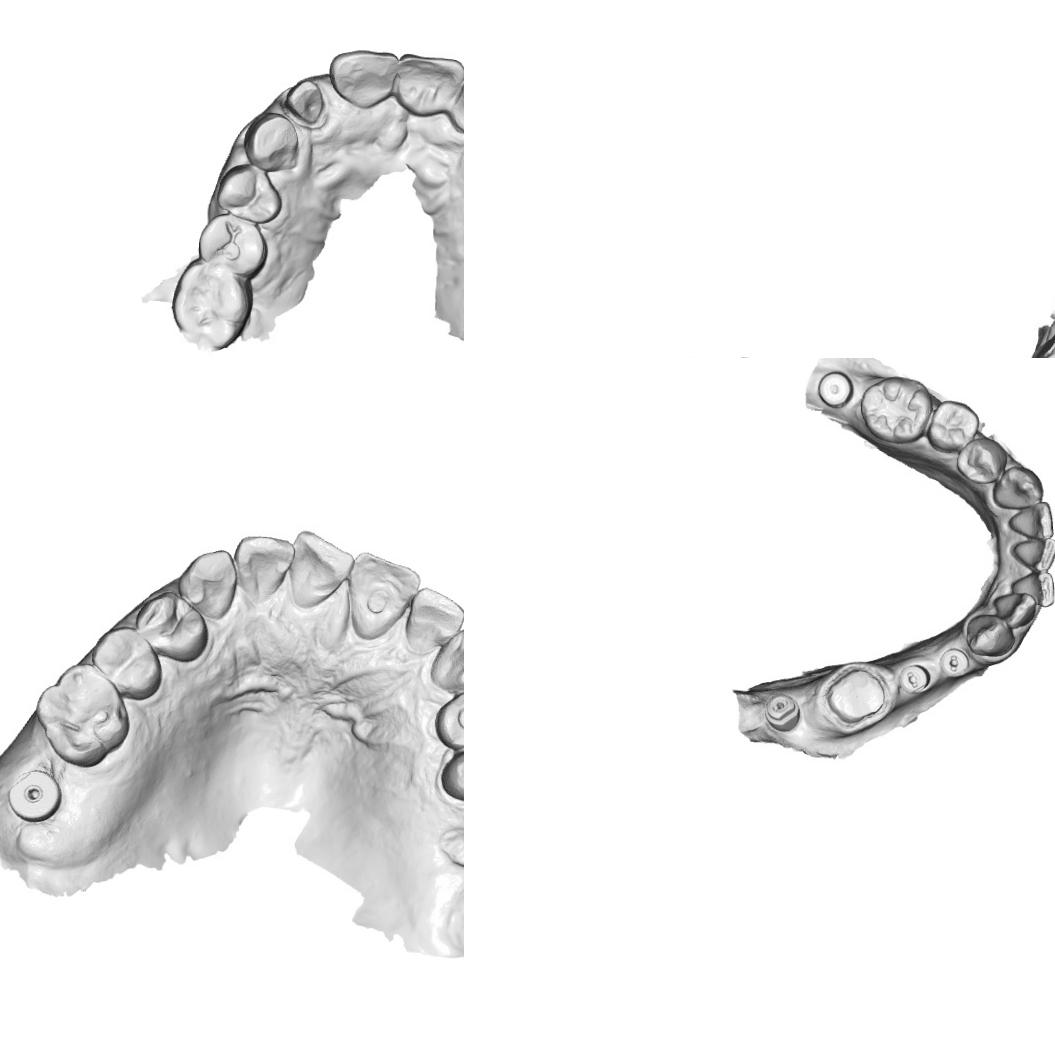canine: (176, 548, 238, 621), (241, 110, 301, 175), (427, 625, 464, 693), (992, 466, 1044, 510), (966, 614, 1016, 657)
crown: (821, 664, 892, 730), (282, 76, 328, 126)
implant: (4, 768, 62, 823), (817, 370, 853, 408)
implant_minus: (762, 691, 804, 735), (897, 662, 932, 695), (937, 646, 970, 678)
incisor: (346, 550, 422, 641), (288, 529, 356, 614), (394, 50, 464, 119), (232, 533, 296, 605), (329, 47, 401, 110), (403, 585, 464, 657), (1007, 500, 1055, 540), (1009, 569, 1055, 607), (992, 592, 1036, 630), (1010, 537, 1055, 573)
molar: (30, 660, 132, 769), (168, 256, 255, 350), (858, 375, 933, 445)
premolar: (134, 588, 210, 664), (89, 624, 163, 700), (195, 213, 270, 280), (213, 162, 285, 226), (924, 399, 980, 454), (956, 437, 1008, 485), (432, 686, 464, 750), (439, 739, 464, 803)
